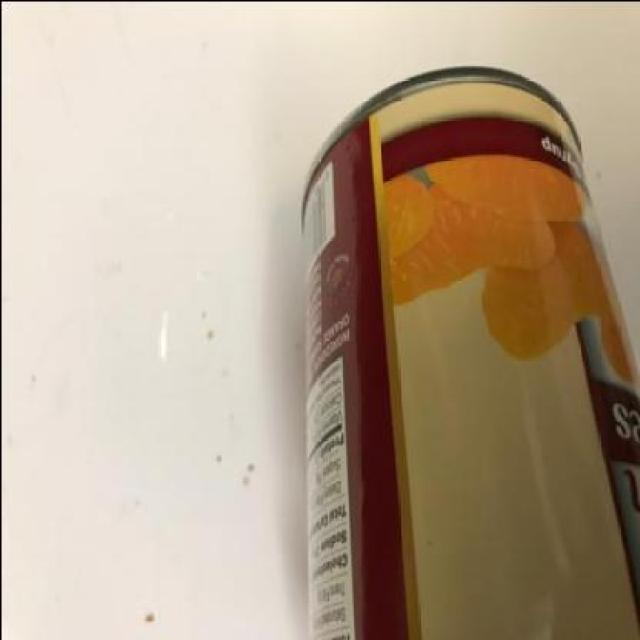METAL: (298, 61, 639, 638)
